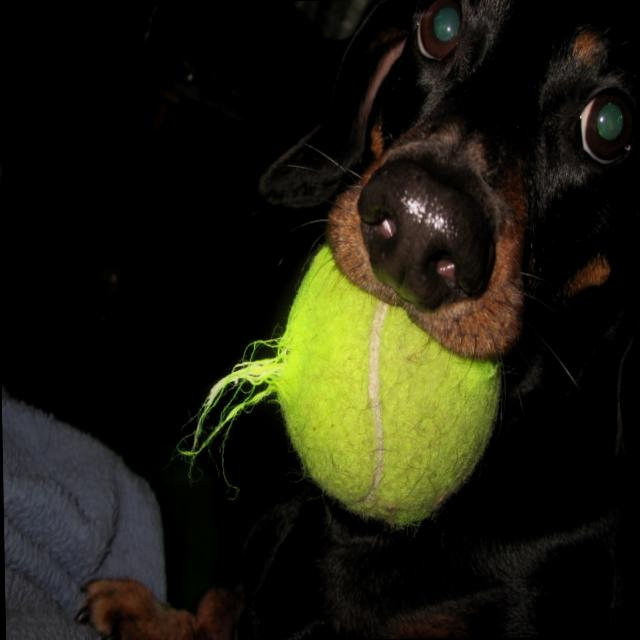Tennis Ball: (188, 240, 501, 534)
